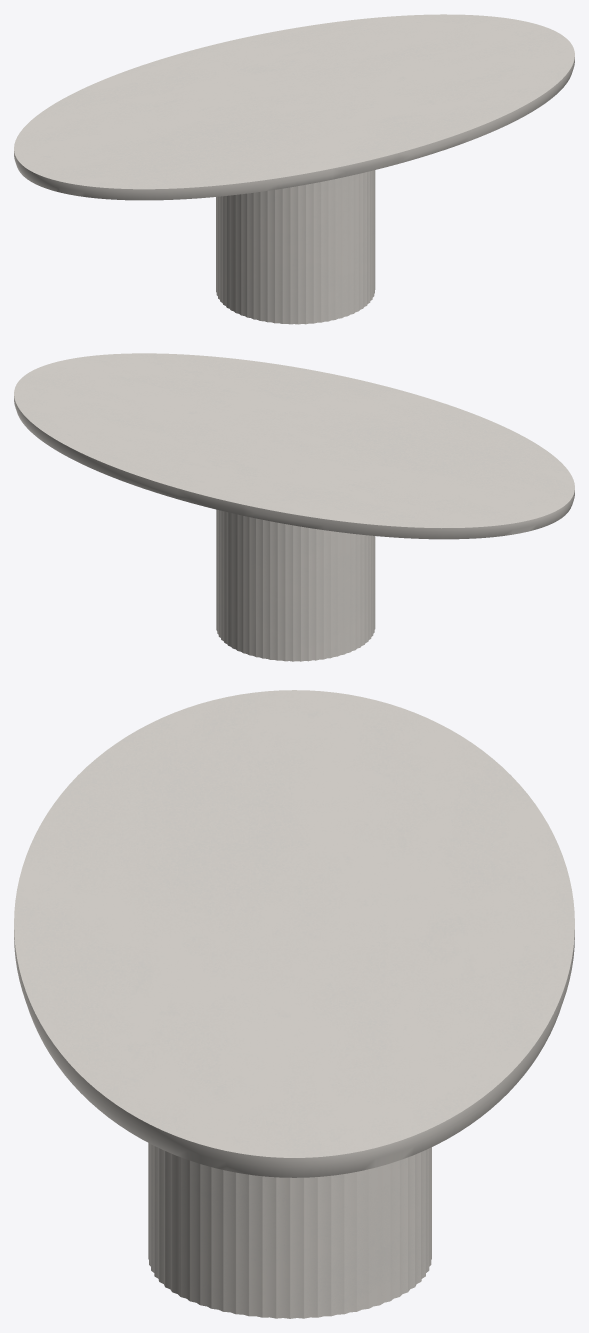
Rendered from pearlwhite_ellips_facet_ripple.glb.
3 views of the same model, one above another, from view 1: azimuth 30°, elevation 25°; view 2: azimuth 150°, elevation 25°; view 3: azimuth 270°, elevation 25° (orthographic). The views are drawn at different scales.
Parts seen in each view (by area): view 1: tabletop_ellips_facet.019, tableleg_ripple.001; view 2: tabletop_ellips_facet.019, tableleg_ripple.001; view 3: tabletop_ellips_facet.019, tableleg_ripple.001.
Boxes of the visible parts, left/top/right/bottom form: tabletop_ellips_facet.019: left=14, top=14, right=574, bottom=200; tableleg_ripple.001: left=216, top=170, right=375, bottom=324; tabletop_ellips_facet.019: left=14, top=353, right=574, bottom=539; tableleg_ripple.001: left=216, top=509, right=375, bottom=661; tabletop_ellips_facet.019: left=14, top=690, right=574, bottom=1177; tableleg_ripple.001: left=148, top=1143, right=431, bottom=1318.
Bounding box in the file's own units: 7.5 × 2.5 × 3.8.
Materials: 1 (1 with a texture image).
